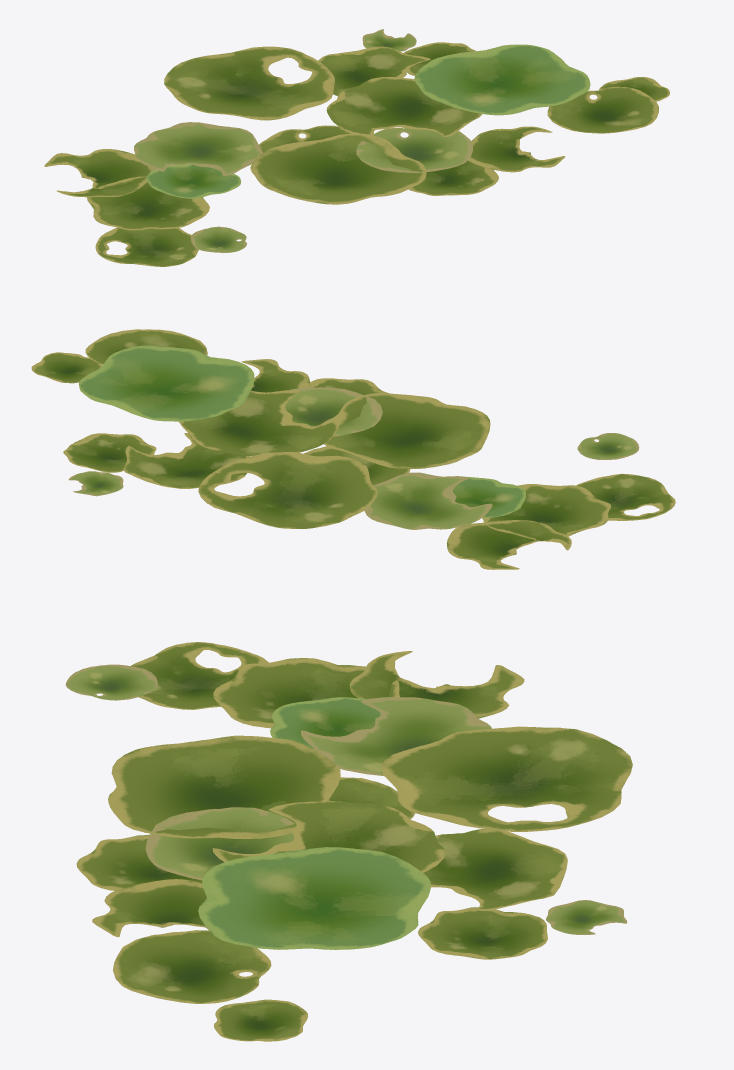
The model's file is middle_plant01_jh.fbx.
The picture shows the model from 3 angles, top to bottom: view 1: azimuth 30°, elevation 25°; view 2: azimuth 150°, elevation 25°; view 3: azimuth 270°, elevation 25°; orthographic projection. The views are drawn at different scales.
Visible parts, largest first — view 1: middle_plant01_jh; view 2: middle_plant01_jh; view 3: middle_plant01_jh.
Boxes of the visible parts, left/top/right/bottom form: middle_plant01_jh: left=44, top=29, right=669, bottom=266; middle_plant01_jh: left=31, top=329, right=675, bottom=569; middle_plant01_jh: left=65, top=642, right=632, bottom=1041.
Bounding box in the file's own units: 139 × 10.37 × 91.74.
